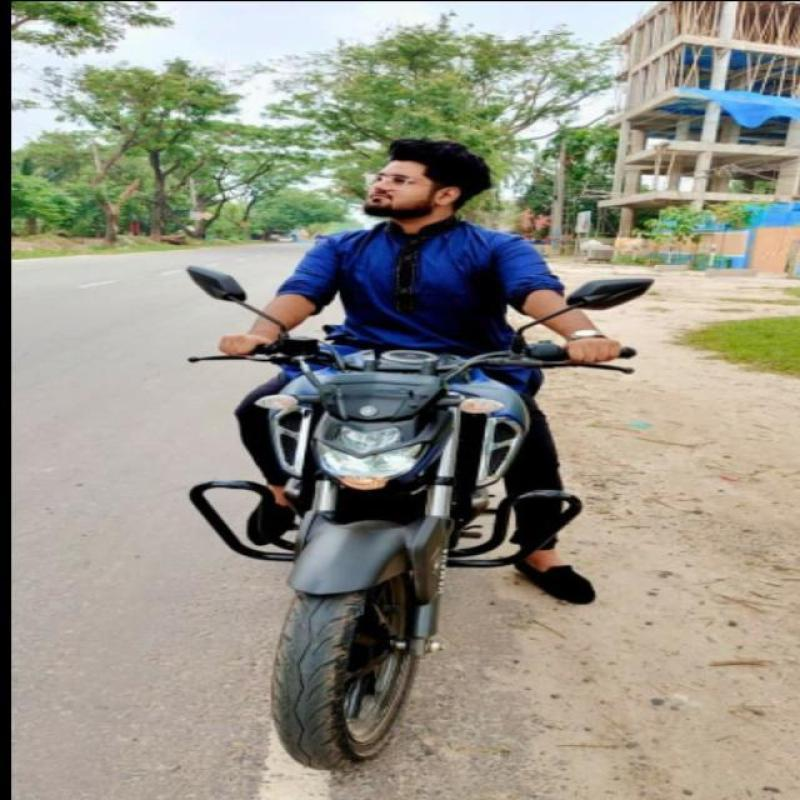nohelmet: (349, 142, 492, 228)
